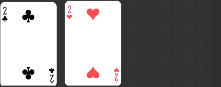2C: (47, 66, 55, 84)
2H: (112, 66, 119, 82)
